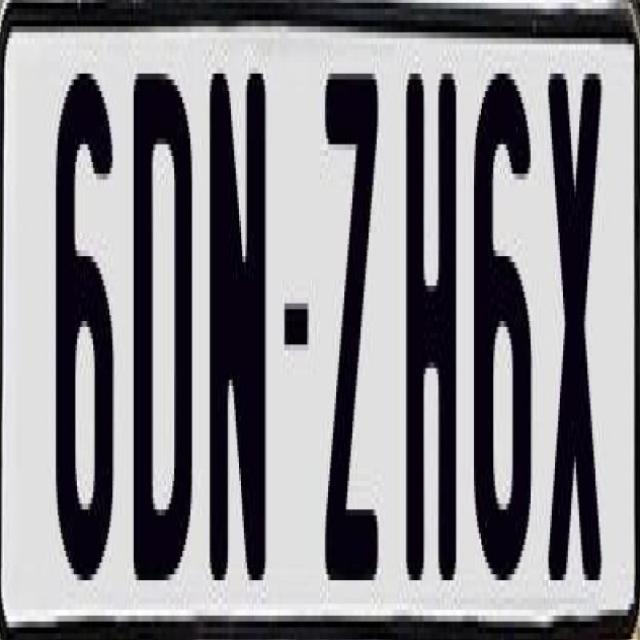license-plate: (12, 6, 632, 640)
